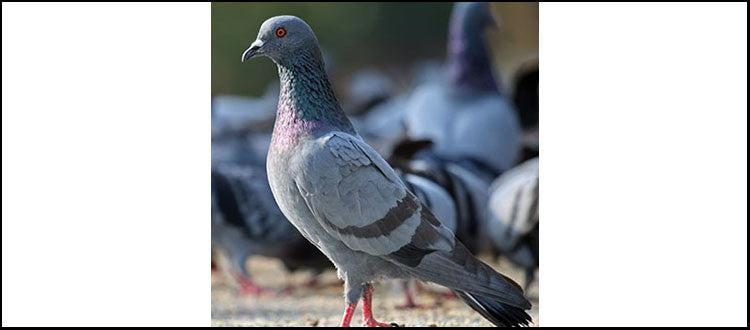Flying Rat: (232, 14, 527, 329)
